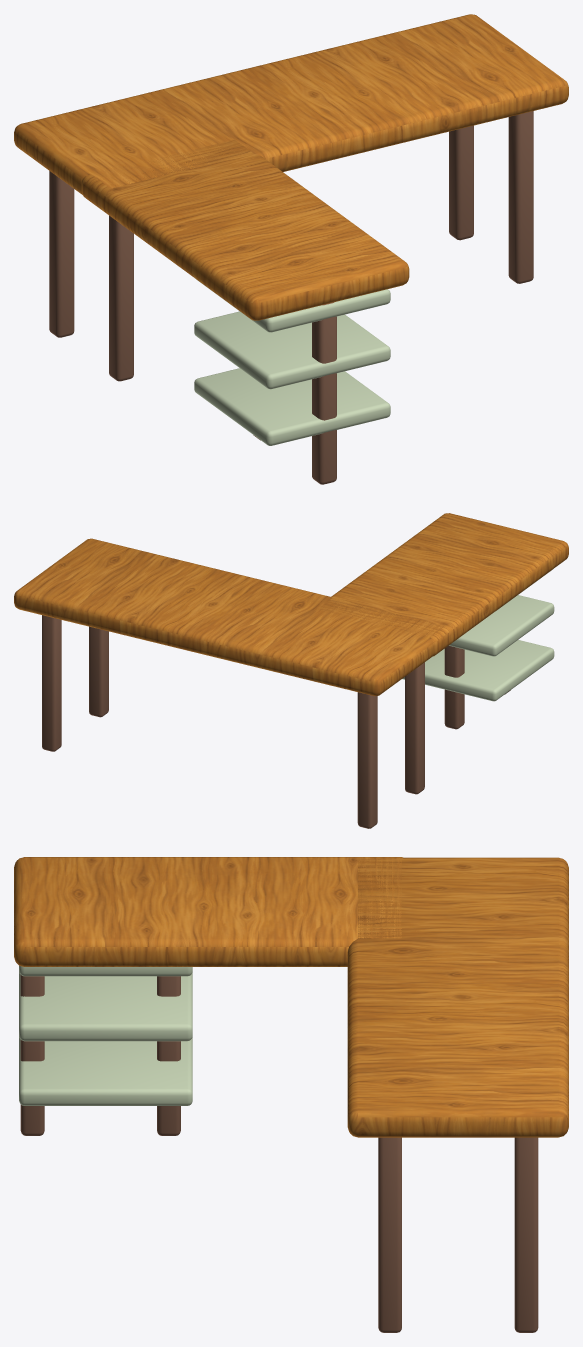
Rendered from corner-desk.glb.
3 views of the same model, one above another, from view 1: azimuth 30°, elevation 25°; view 2: azimuth 150°, elevation 25°; view 3: azimuth 270°, elevation 25° (orthographic). The views are drawn at different scales.
Parts seen in each view (by area): view 1: corner-desk; view 2: corner-desk; view 3: corner-desk.
Part boxes in pixels (box(x1,y1,x2,y2)): corner-desk: box(14, 14, 568, 484); corner-desk: box(14, 513, 568, 828); corner-desk: box(14, 857, 568, 1332).
Size of the model in its own units: 1.8 by 0.76 by 1.63.
3 materials, 1 textured.
